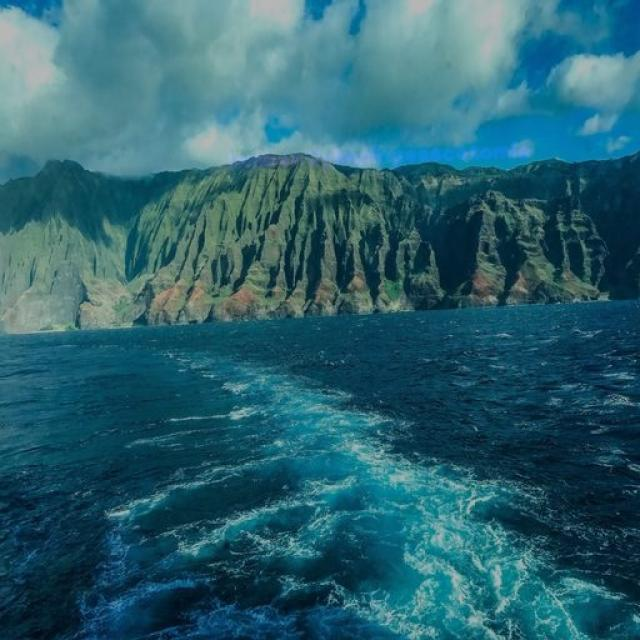watermark: (222, 142, 530, 170)
